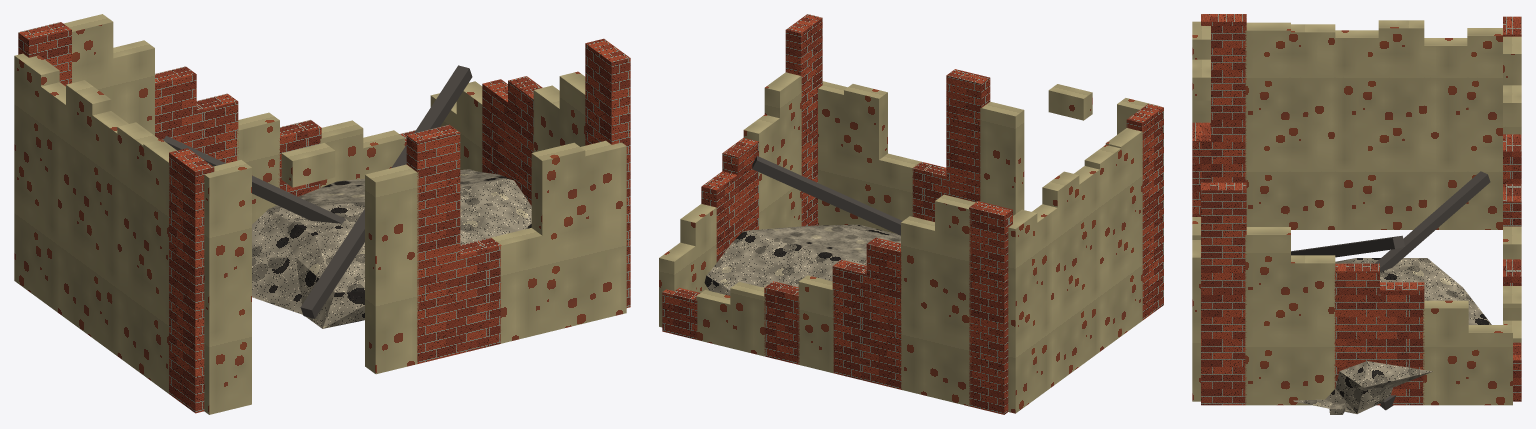
File: ruin_house_half.glb
3 views of the same model, side by side, from view 1: azimuth 30°, elevation 25°; view 2: azimuth 150°, elevation 25°; view 3: azimuth 270°, elevation 25° (orthographic). The views are drawn at different scales.
Visible parts, largest first — view 1: ruin_house_half-col; view 2: ruin_house_half-col; view 3: ruin_house_half-col.
Boxes of the visible parts, x1,y1,x2,y2 form: ruin_house_half-col: (14, 14, 630, 414); ruin_house_half-col: (659, 14, 1163, 414); ruin_house_half-col: (1192, 14, 1521, 414).
Size of the model in its own units: 4.54 by 2.33 by 3.18.
Materials: 4 (3 with a texture image).
